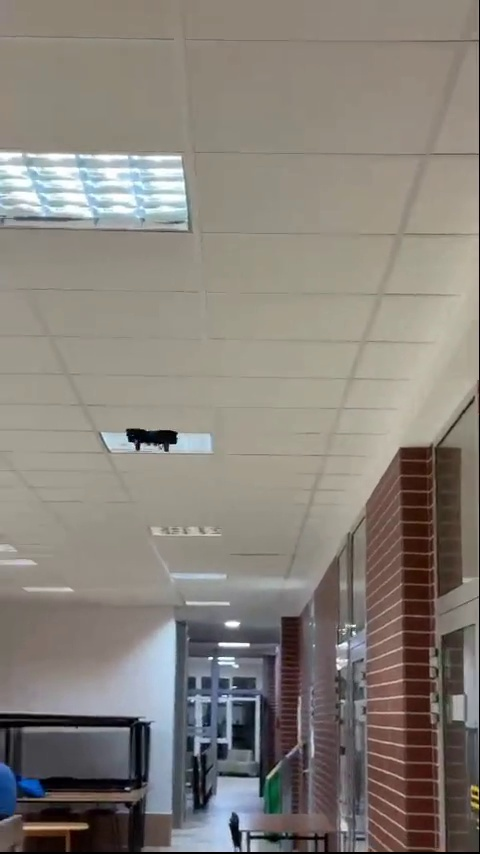drone: (125, 425, 178, 450)
